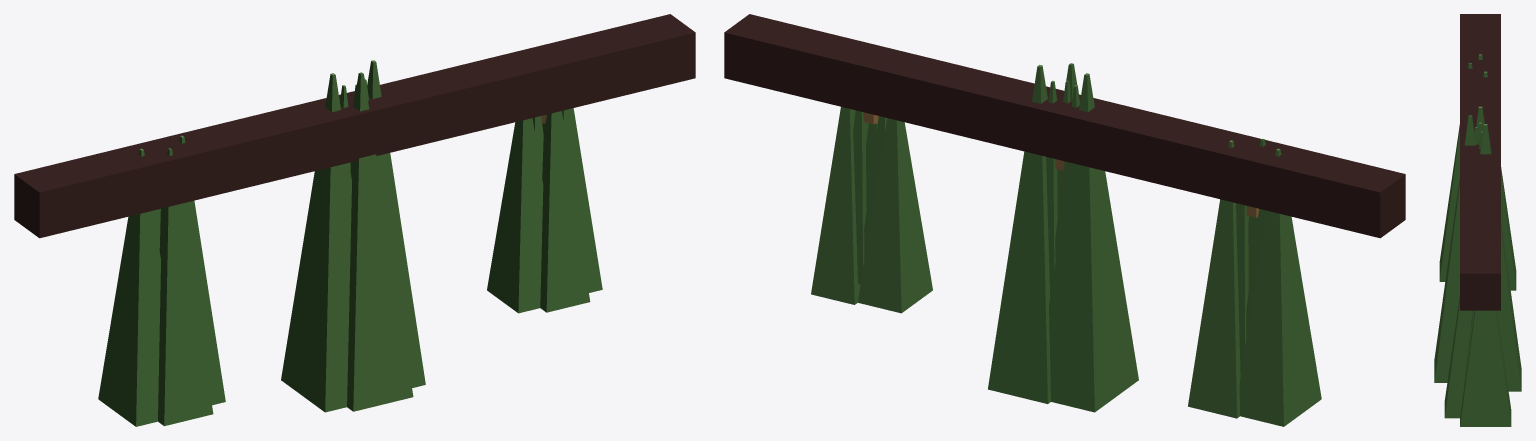
File: hanging_herbs.obj
3 renders of one model, left to right at view 1: azimuth 30°, elevation 25°; view 2: azimuth 150°, elevation 25°; view 3: azimuth 270°, elevation 25°, orthographic. The views are drawn at different scales.
Size of the model in its own units: 1.2 by 0.55 by 0.17.
